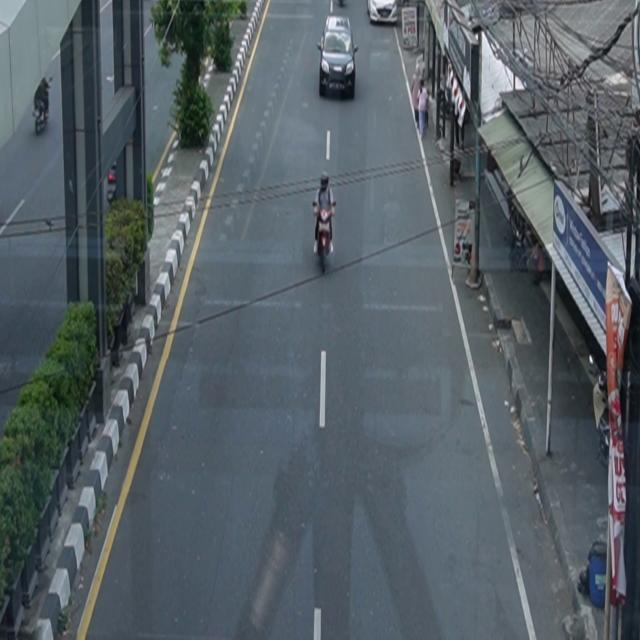car: (318, 15, 360, 100), (367, 1, 398, 25)
